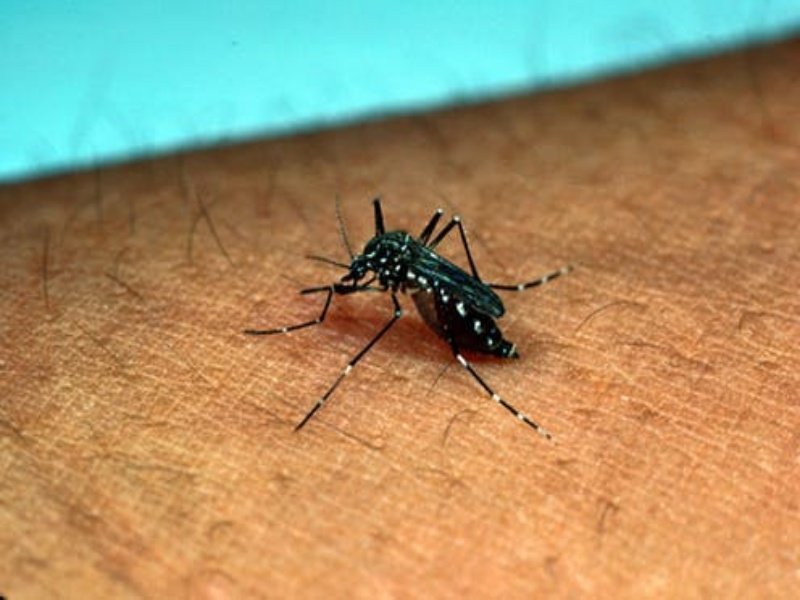dengue_mosquito: (246, 198, 563, 444)
